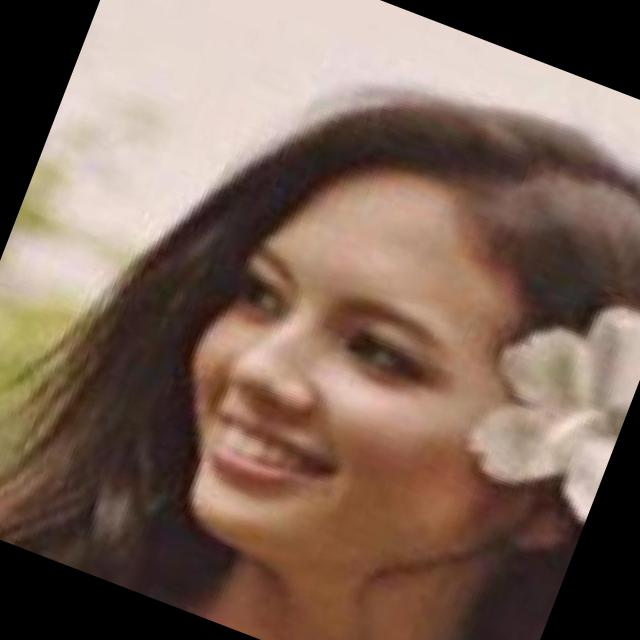bareface: (137, 78, 610, 624)
